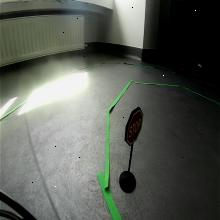stop: (124, 106, 143, 147)
